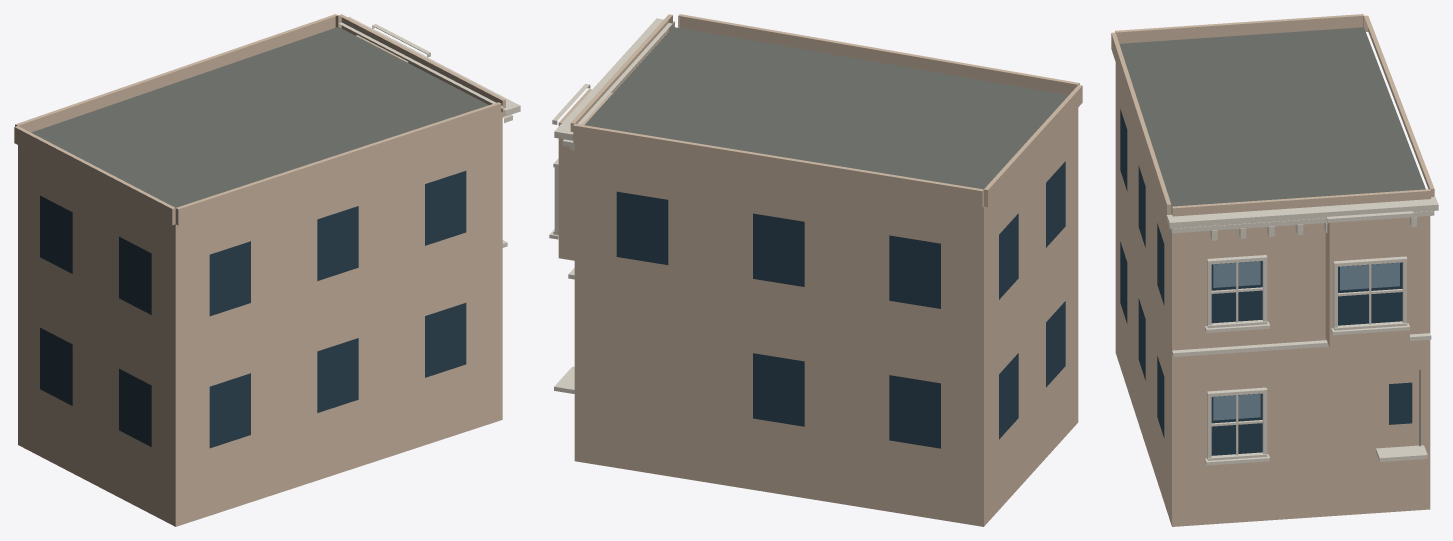
The picture shows the model from 3 angles, left to right: view 1: azimuth 30°, elevation 25°; view 2: azimuth 150°, elevation 25°; view 3: azimuth 270°, elevation 25°; orthographic projection. The views are drawn at different scales.
Parts seen in each view (by area): view 1: Footprint 0 / surface 2, Footprint 0 / surface 1, Inset glazing, Facade bay volumes, Cornices and window frames; view 2: Footprint 0 / surface 2, Footprint 0 / surface 1, Inset glazing, Facade bay volumes, Cornices and window frames; view 3: Footprint 0 / surface 2, Footprint 0 / surface 1, Facade bay volumes, Cornices and window frames, Inset glazing, Sky reflection panels.
Part boxes in pixels (x1,y1,x2,y2): Footprint 0 / surface 2: [18, 112, 502, 526]; Footprint 0 / surface 1: [31, 27, 502, 207]; Inset glazing: [40, 171, 466, 448]; Facade bay volumes: [14, 14, 505, 225]; Cornices and window frames: [339, 17, 520, 247]; Footprint 0 / surface 2: [574, 108, 1078, 526]; Footprint 0 / surface 1: [584, 27, 1068, 189]; Inset glazing: [616, 161, 1065, 448]; Facade bay volumes: [558, 14, 1082, 260]; Cornices and window frames: [549, 18, 674, 393]; Footprint 0 / surface 2: [1115, 63, 1430, 526]; Footprint 0 / surface 1: [1119, 27, 1425, 214]; Facade bay volumes: [1111, 14, 1434, 348]; Cornices and window frames: [1166, 197, 1438, 465]; Inset glazing: [1120, 109, 1412, 455]; Sky reflection panels: [1213, 261, 1399, 420].
Size of the model in its own units: 13.19 by 9.81 by 9.08.
